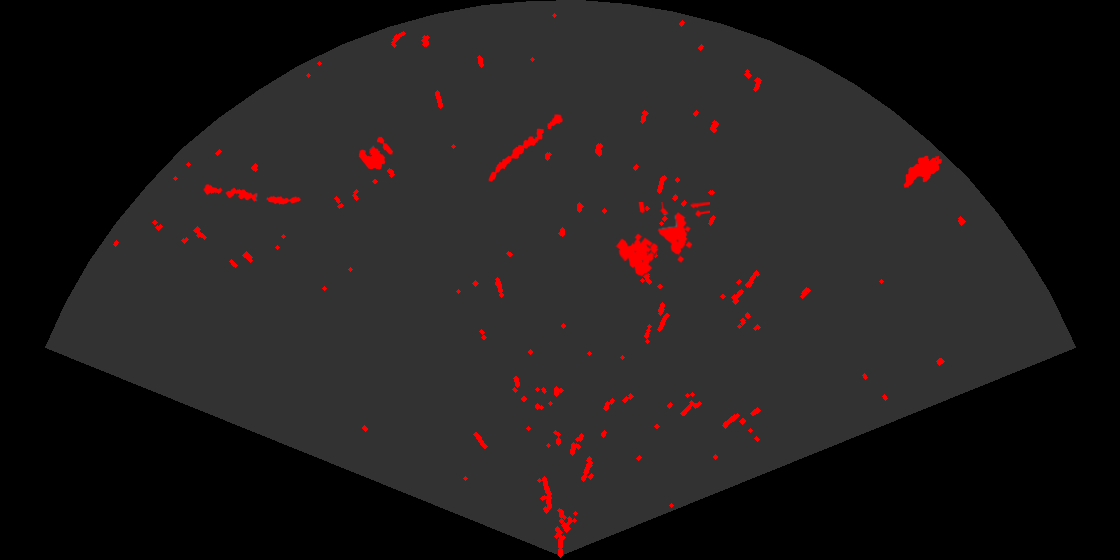AUV: (902, 154, 944, 189)
ball: (357, 135, 395, 171)
cage: (614, 202, 710, 278)
chain: (487, 113, 565, 183), (201, 183, 303, 206)
